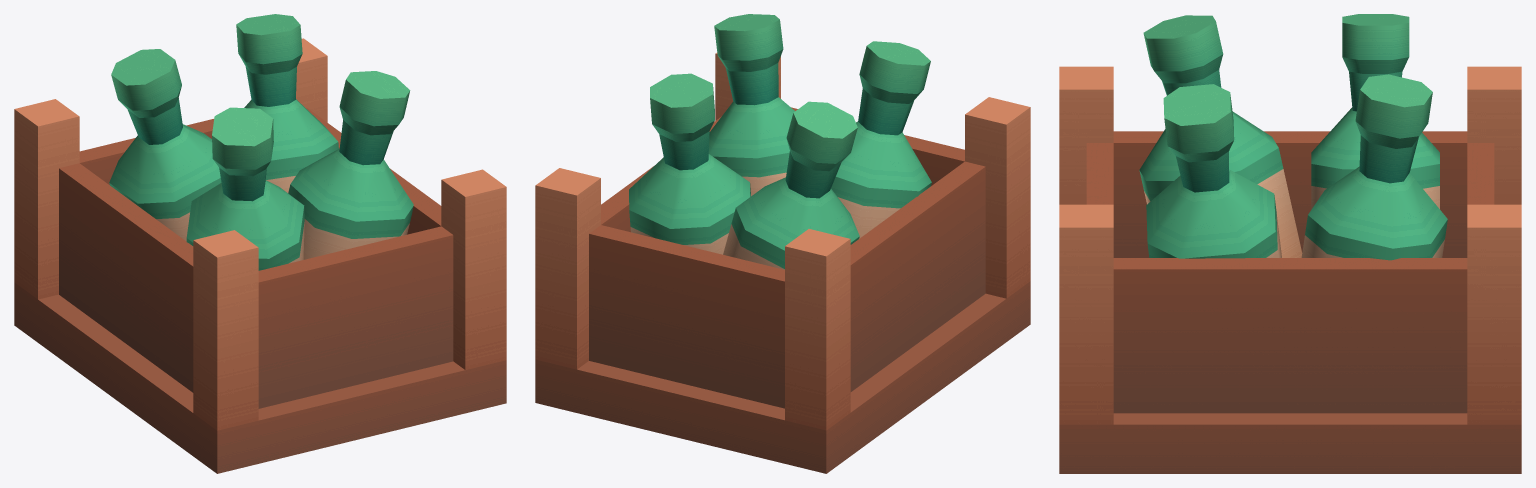
Rendered from crate-bottles.glb.
3 views of the same model, side by side, from view 1: azimuth 30°, elevation 25°; view 2: azimuth 150°, elevation 25°; view 3: azimuth 270°, elevation 25° (orthographic). The views are drawn at different scales.
Visible parts, largest first — view 1: crate-bottles; view 2: crate-bottles; view 3: crate-bottles.
Part boxes in pixels (x1,y1,x2,y2): crate-bottles: (14,14,506,473); crate-bottles: (535,14,1030,473); crate-bottles: (1059,14,1521,473).
Bounding box in the file's own units: 0.4422 × 0.4335 × 0.5369.
1 material, 1 textured.
